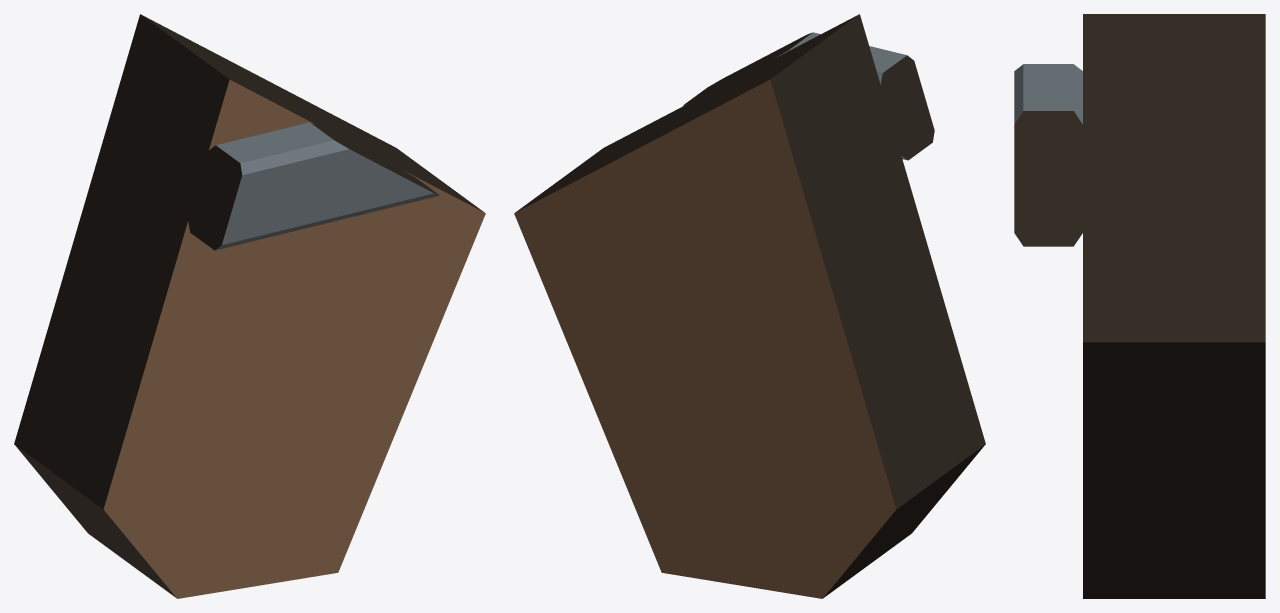
File: SM_DoorShard_02_00.fbx
The picture shows the model from 3 angles, left to right: view 1: azimuth 30°, elevation 25°; view 2: azimuth 150°, elevation 25°; view 3: azimuth 270°, elevation 25°; orthographic projection. The views are drawn at different scales.
Visible parts, largest first — view 1: SM_DoorShard_02_00; view 2: SM_DoorShard_02_00; view 3: SM_DoorShard_02_00.
Boxes of the visible parts, x1=… form: SM_DoorShard_02_00: x1=14, y1=14, x2=485, y2=598; SM_DoorShard_02_00: x1=514, y1=14, x2=985, y2=598; SM_DoorShard_02_00: x1=1014, y1=14, x2=1265, y2=598.
Bounding box in the file's own units: 39.48 × 22 × 51.28.
